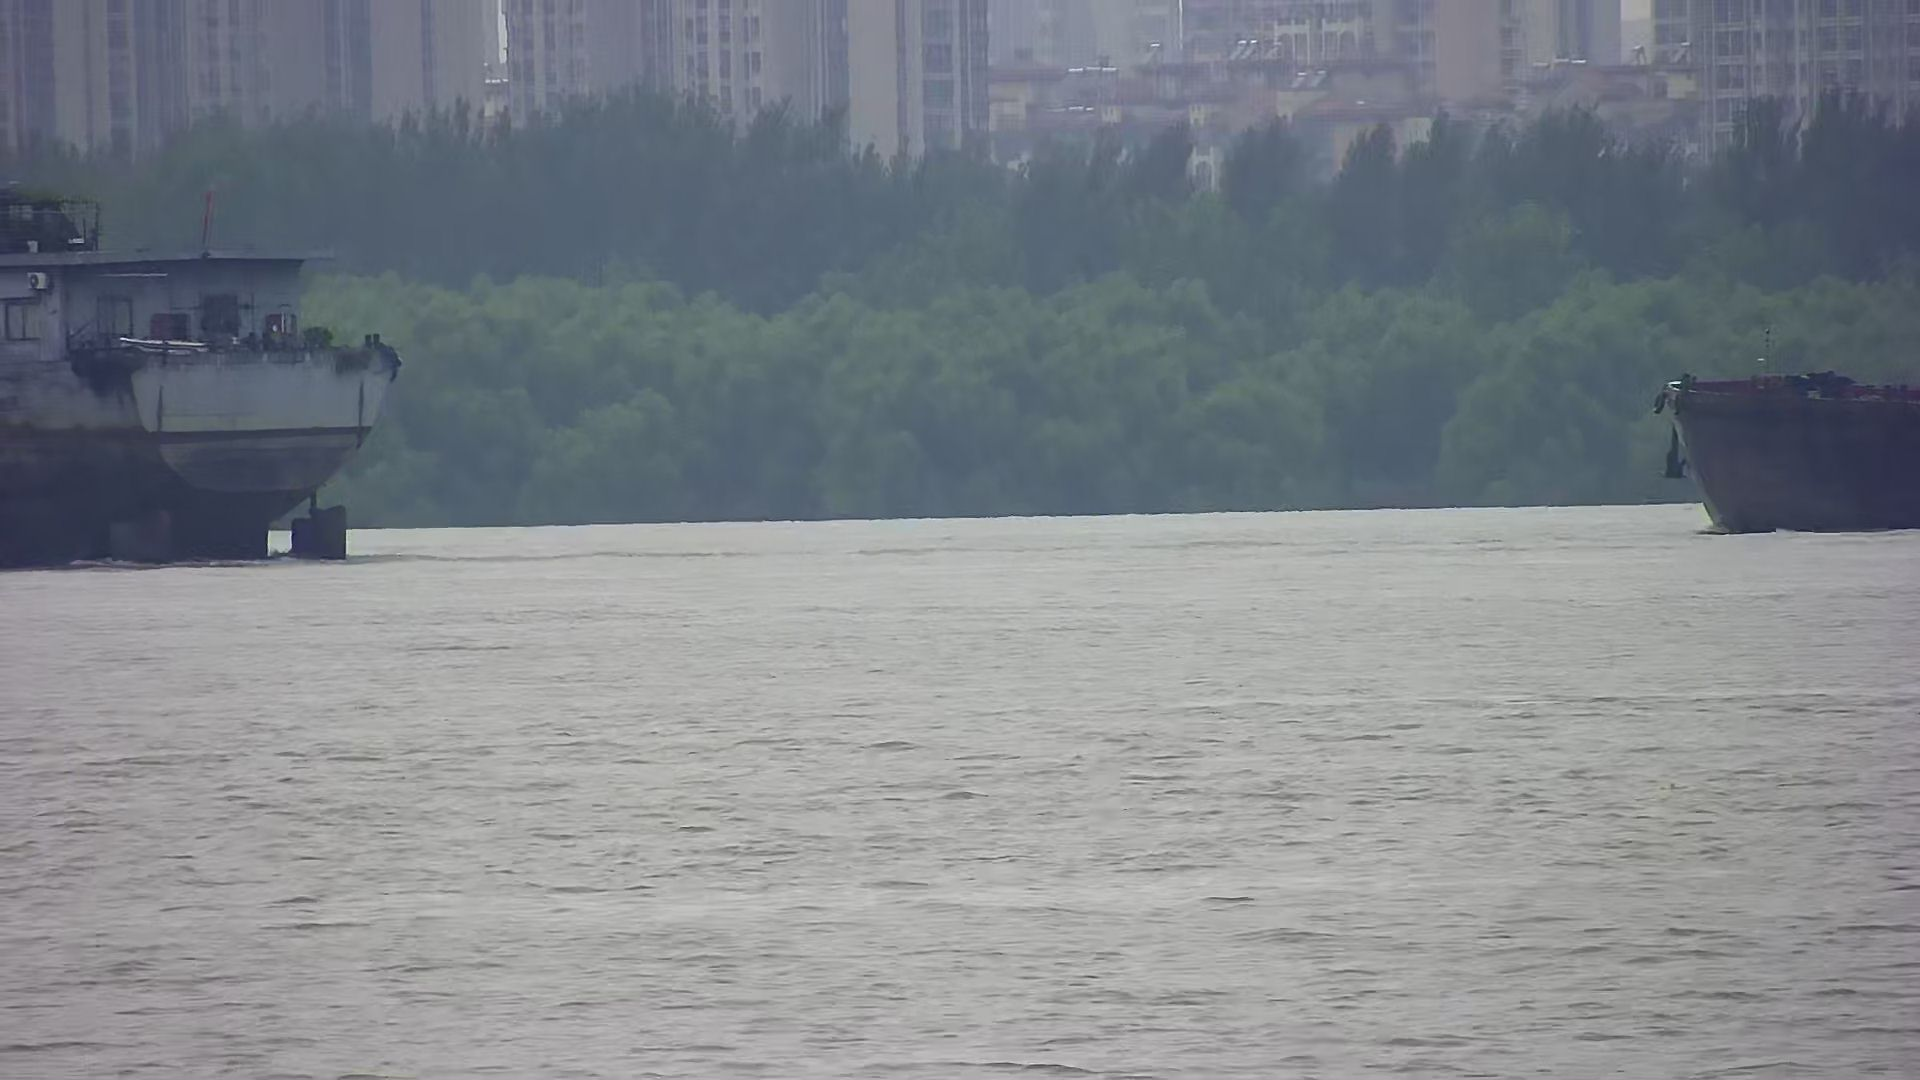ship: (3, 179, 407, 571), (1660, 328, 1920, 533)
